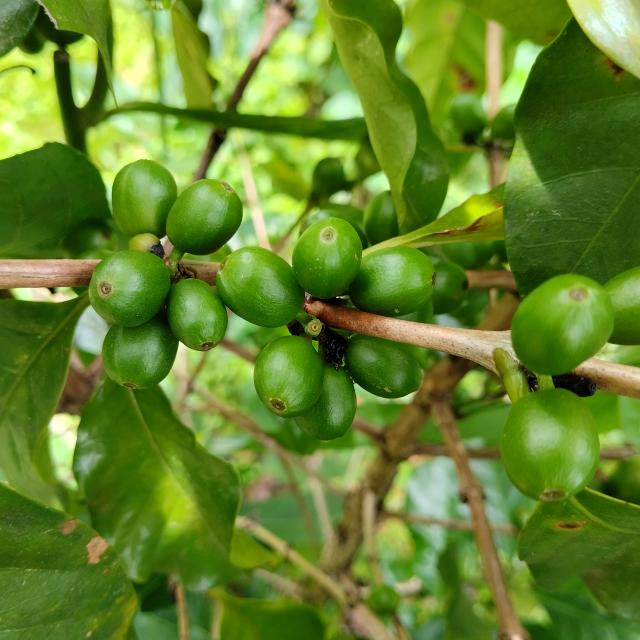green: (501, 389, 601, 502), (512, 274, 615, 376), (216, 246, 304, 328), (88, 250, 170, 327), (348, 246, 436, 317), (101, 314, 178, 390), (254, 335, 324, 418), (166, 179, 242, 255), (292, 217, 362, 299), (111, 159, 177, 238), (294, 361, 357, 441), (345, 334, 422, 399), (166, 278, 227, 351), (605, 266, 640, 345)
